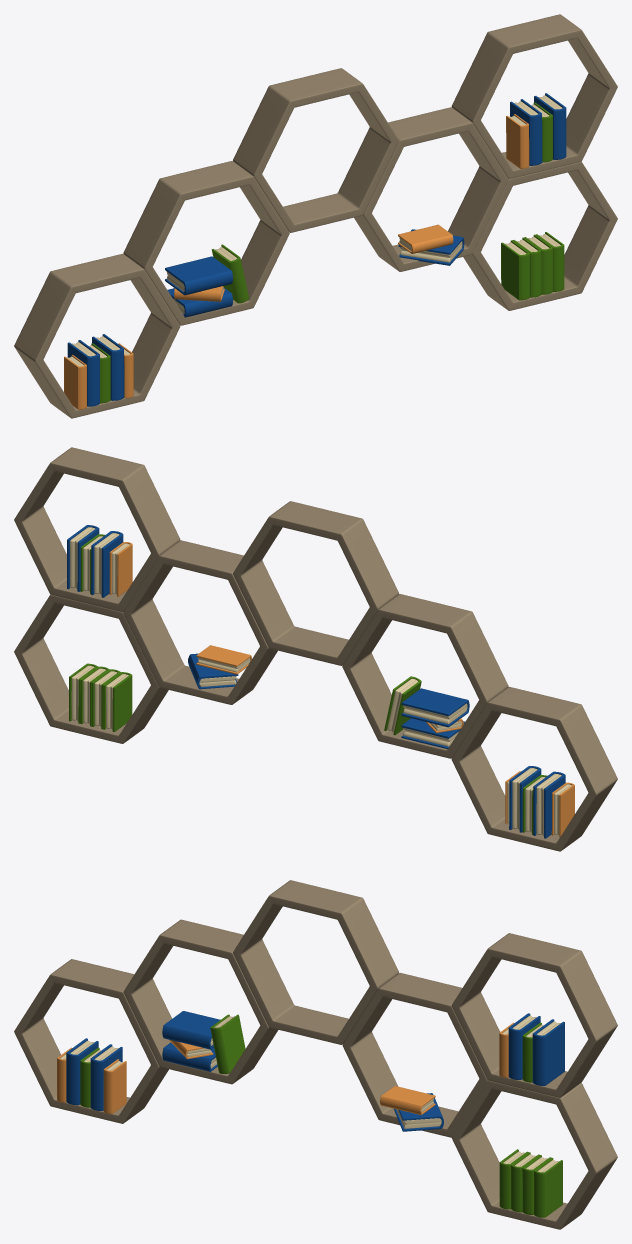
Rendered from wall_self.glb.
3 renders of one model, top to bottom at view 1: azimuth 30°, elevation 25°; view 2: azimuth 150°, elevation 25°; view 3: azimuth 330°, elevation 25°, orthographic.
Parts seen in each view (by area): view 1: Book Cover geo.012_0; view 2: Book Cover geo.012_0; view 3: Book Cover geo.012_0.
Boxes of the visible parts, x1=… form: Book Cover geo.012_0: x1=14, y1=14, x2=617, y2=418; Book Cover geo.012_0: x1=14, y1=447, x2=617, y2=851; Book Cover geo.012_0: x1=14, y1=880, x2=617, y2=1229.
Bounding box in the file's own units: 0.4918 × 0.2135 × 0.0501.
2 materials, 2 textured.
